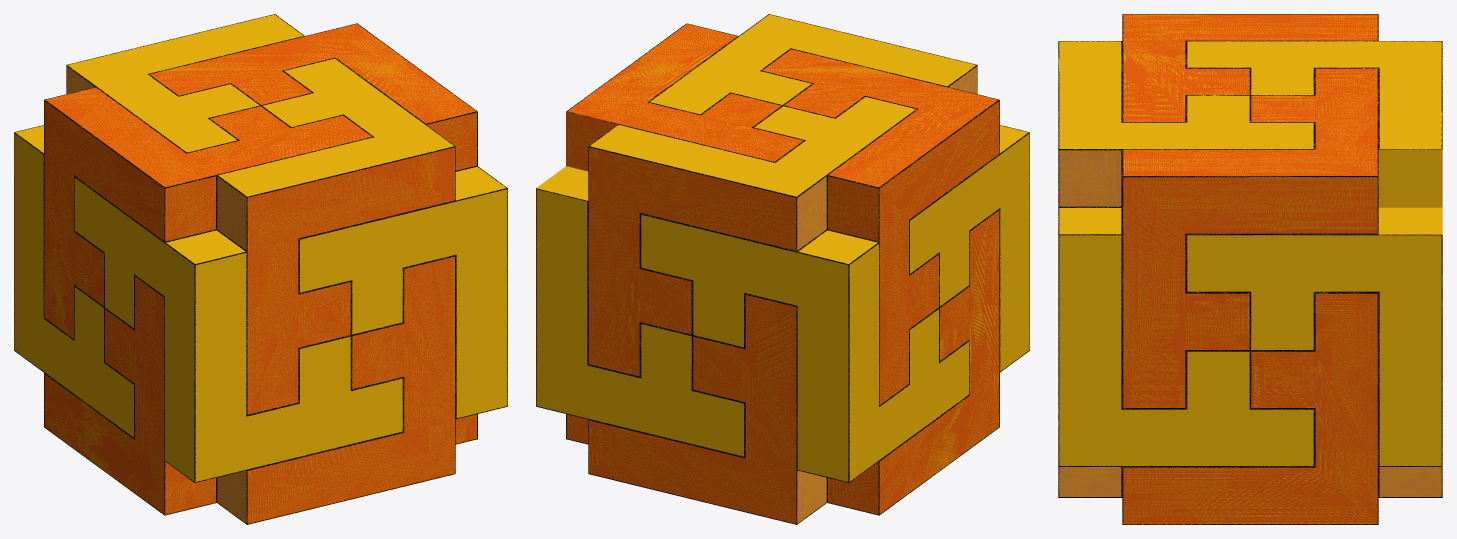
3 views of the same model, side by side, from view 1: azimuth 30°, elevation 25°; view 2: azimuth 150°, elevation 25°; view 3: azimuth 270°, elevation 25° (orthographic). The views are drawn at different scales.
Parts seen in each view (by area): view 1: group_0 (×20); view 2: group_0 (×20); view 3: group_0 (×16).
Boxes of the visible parts, <box> form: group_0 (×20): <box>14,14,507,524</box>; group_0 (×20): <box>536,14,1029,524</box>; group_0 (×16): <box>1058,14,1442,524</box>.
Size of the model in its own units: 6300 by 6300 by 6300.
